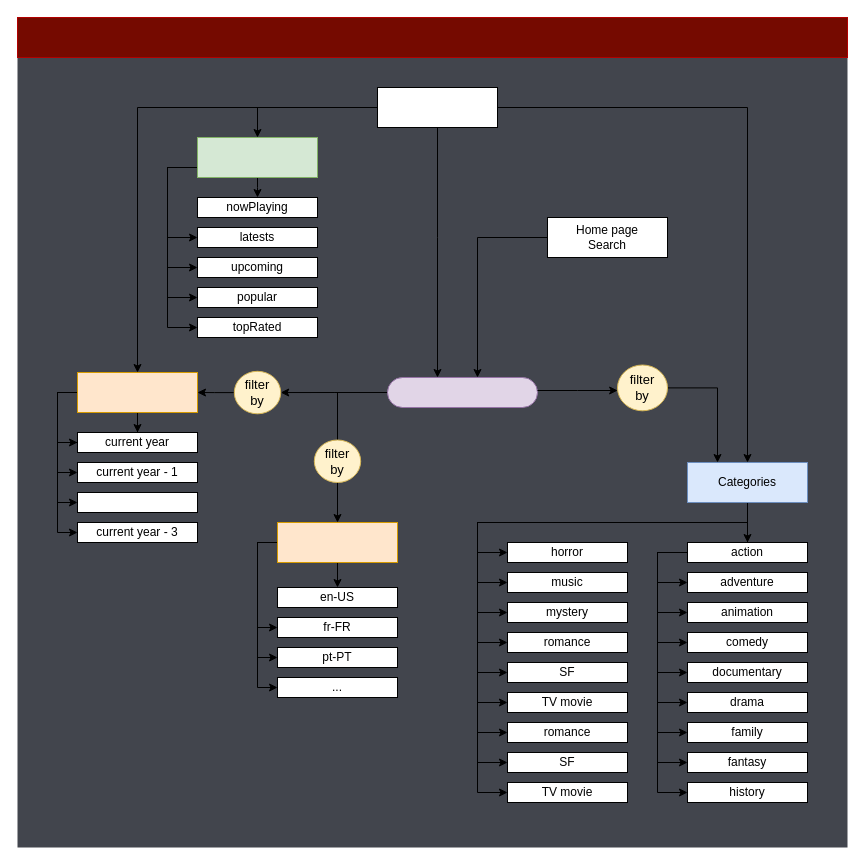
Image size: 865x865. Some labels were removed from this diagram. The shapes that lost their labels are listed below. From the top down, each one's centre as x and y in pixels, then its label:
(x=432, y=37): THE THEATRE SEARCH FLOWCHART
(x=437, y=107): After user Login
(x=257, y=157): Playlists
(x=137, y=392): Year
(x=462, y=392): SEARCH
(x=137, y=502): current year - 2
(x=337, y=542): Language
